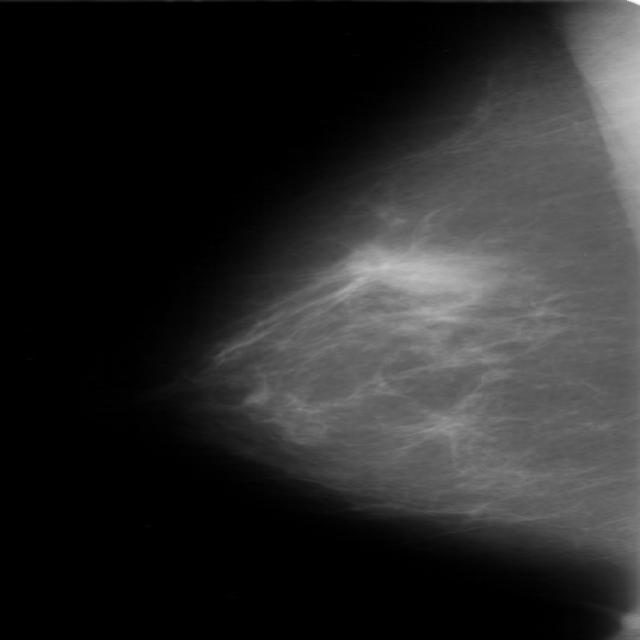tumour: (342, 245, 488, 292)
